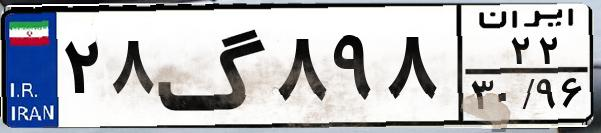0: (495, 70, 520, 125)
2: (57, 26, 110, 100), (537, 27, 568, 80), (508, 27, 537, 80)
3: (470, 70, 495, 125)
6: (560, 70, 590, 125)
8: (270, 28, 330, 110), (385, 28, 445, 110), (110, 28, 156, 98)
9: (330, 28, 385, 110), (535, 70, 560, 125)
گ: (156, 12, 270, 120)
